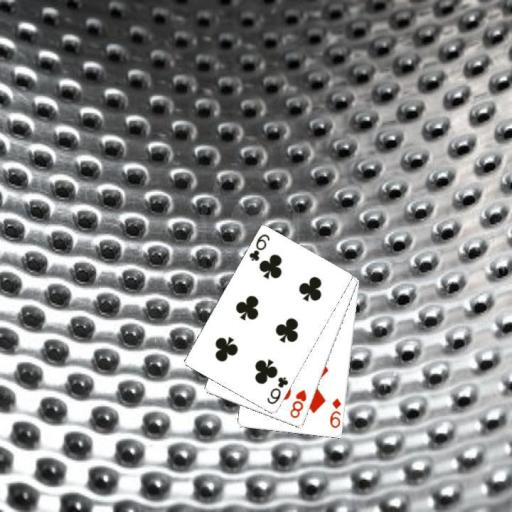6C: (264, 374, 290, 406), (246, 231, 271, 263)
8H: (286, 387, 308, 420)
9D: (327, 396, 343, 430)
